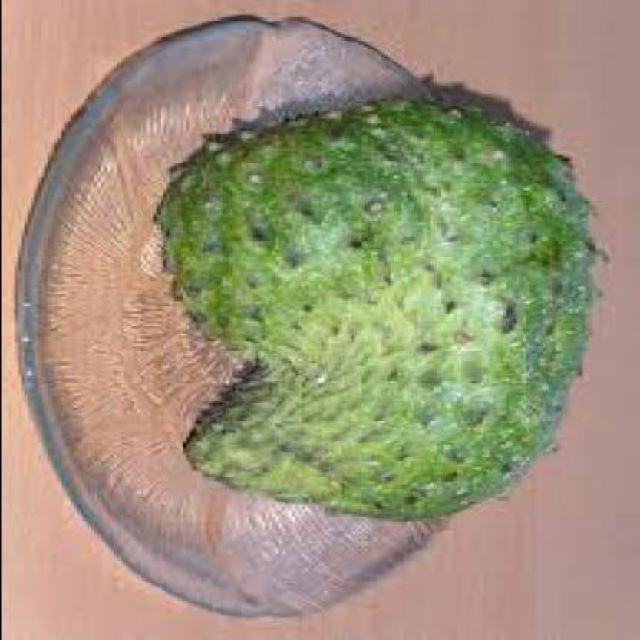BIODEGRADABLE: (152, 100, 606, 522)
